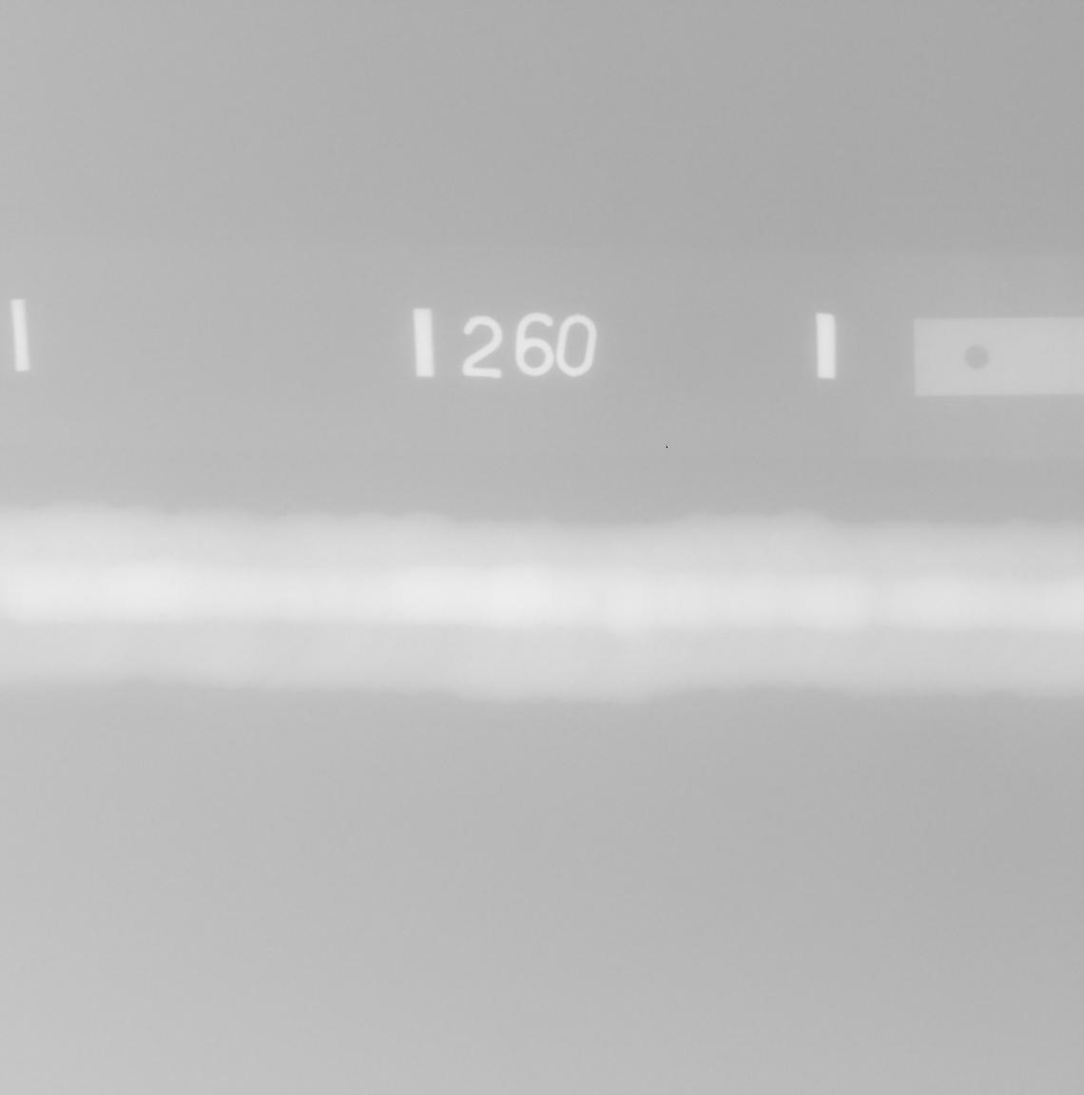Pore/Porosity: (158, 614, 165, 618)
